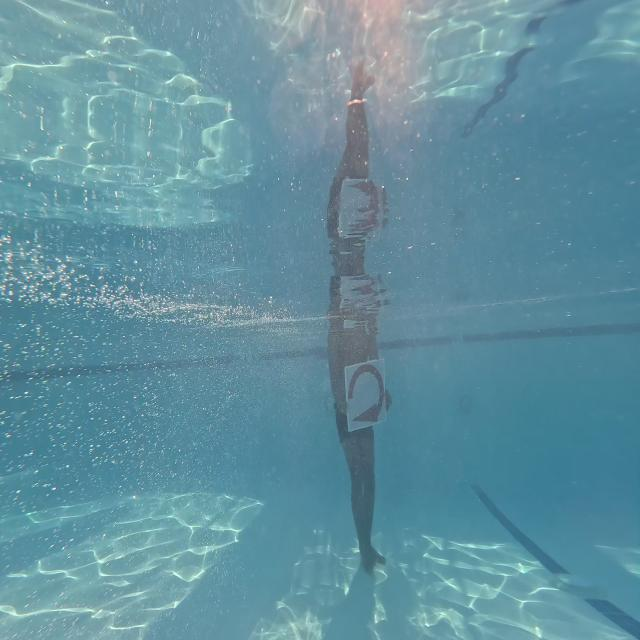red_side: (340, 358, 388, 426)
